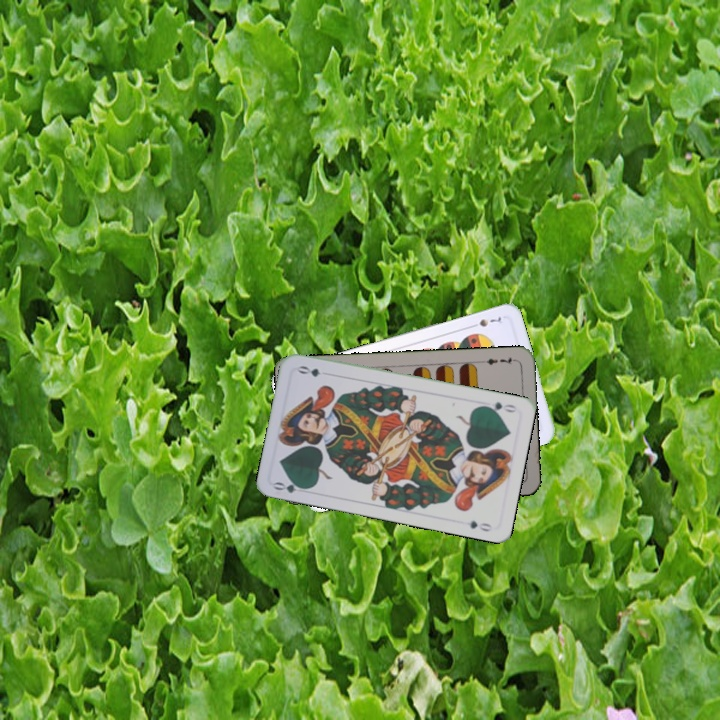E7: (478, 353, 518, 367)
GO: (270, 476, 311, 496), (479, 398, 519, 415)
S7: (466, 313, 504, 330)
